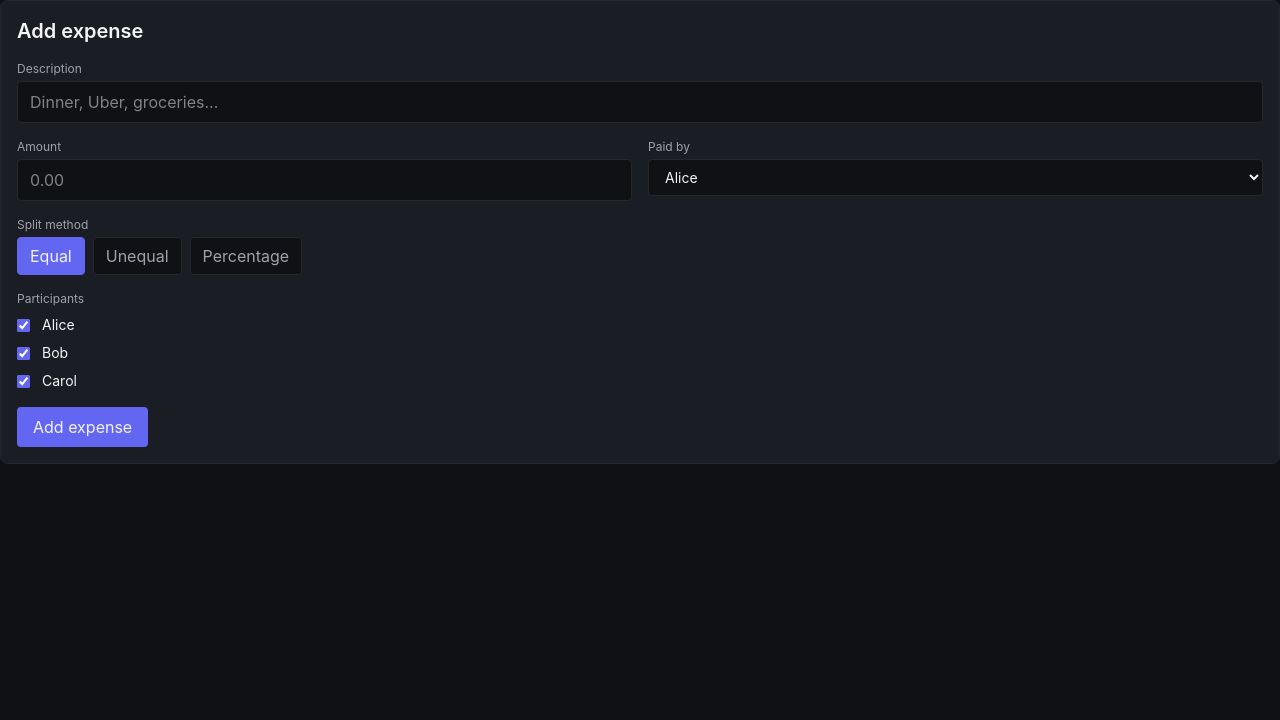
Test: AddExpenseForm › rejects an unequal split whose amounts don't add up to the total
The image size is (1280, 720).
Type "Dinner" into the field labelled "Description" at (640,102), box [17, 81, 1263, 123]
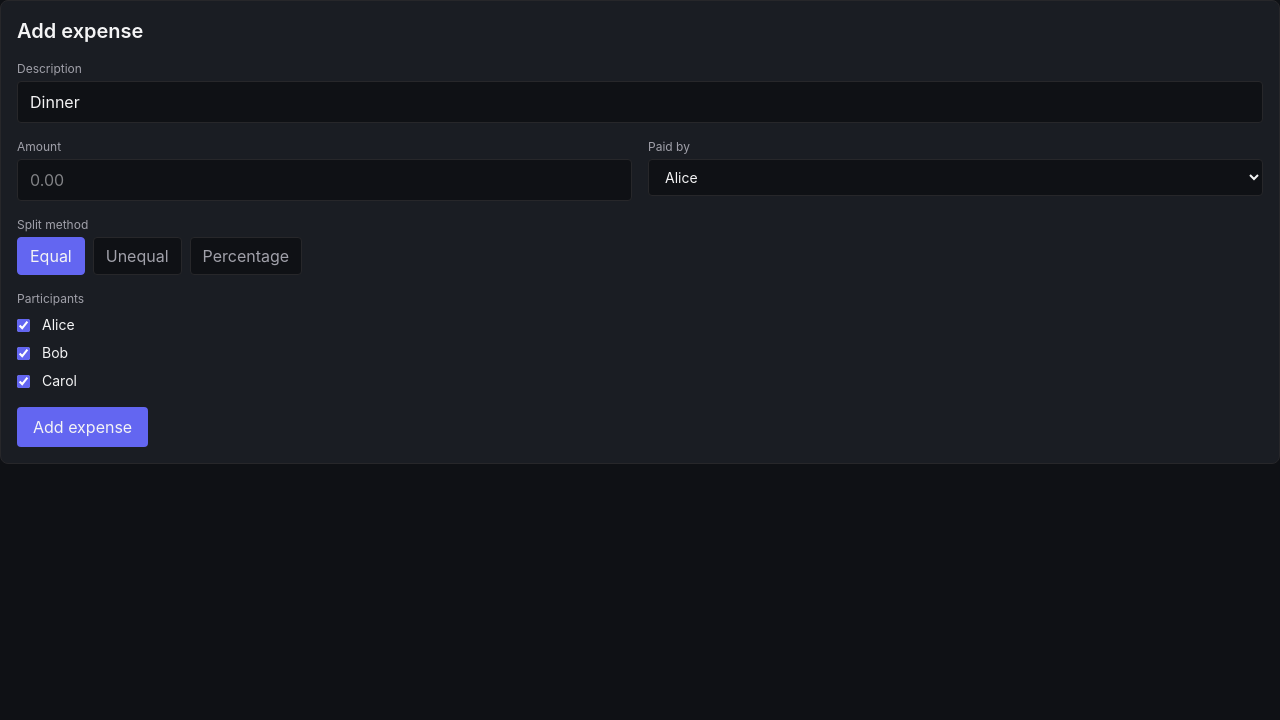
Type "100" into the number field labelled "Amount" at (324,180), box [17, 159, 632, 201]
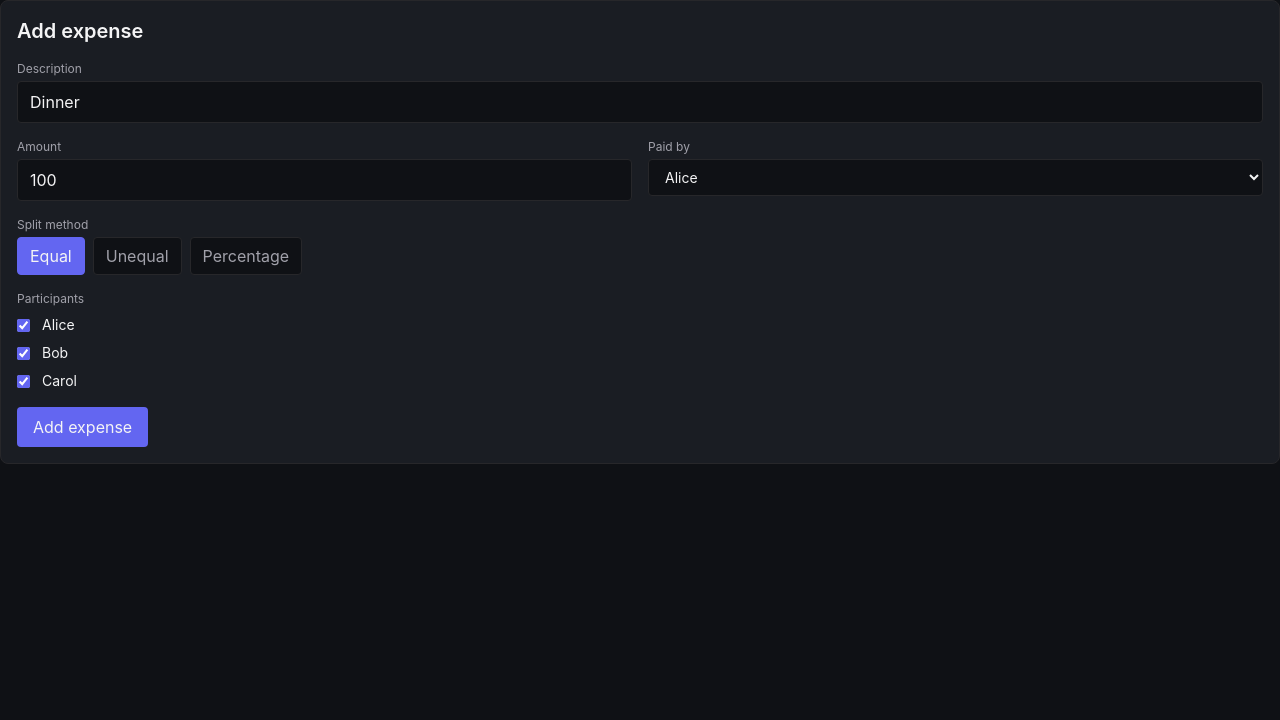
Click the button "Unequal" at (137,256), box [93, 237, 182, 275]
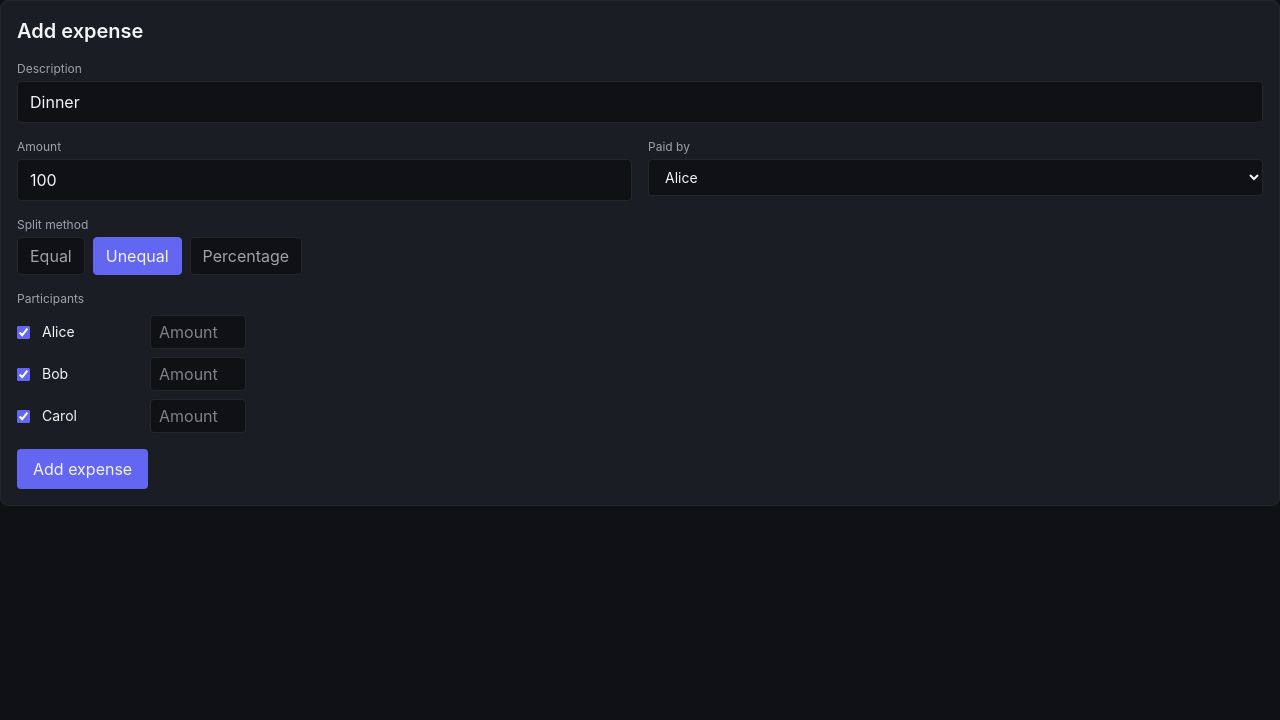
Type "50" into the number field with placeholder "Amount" next to "Alice" at (198,332), box [150, 315, 246, 349]
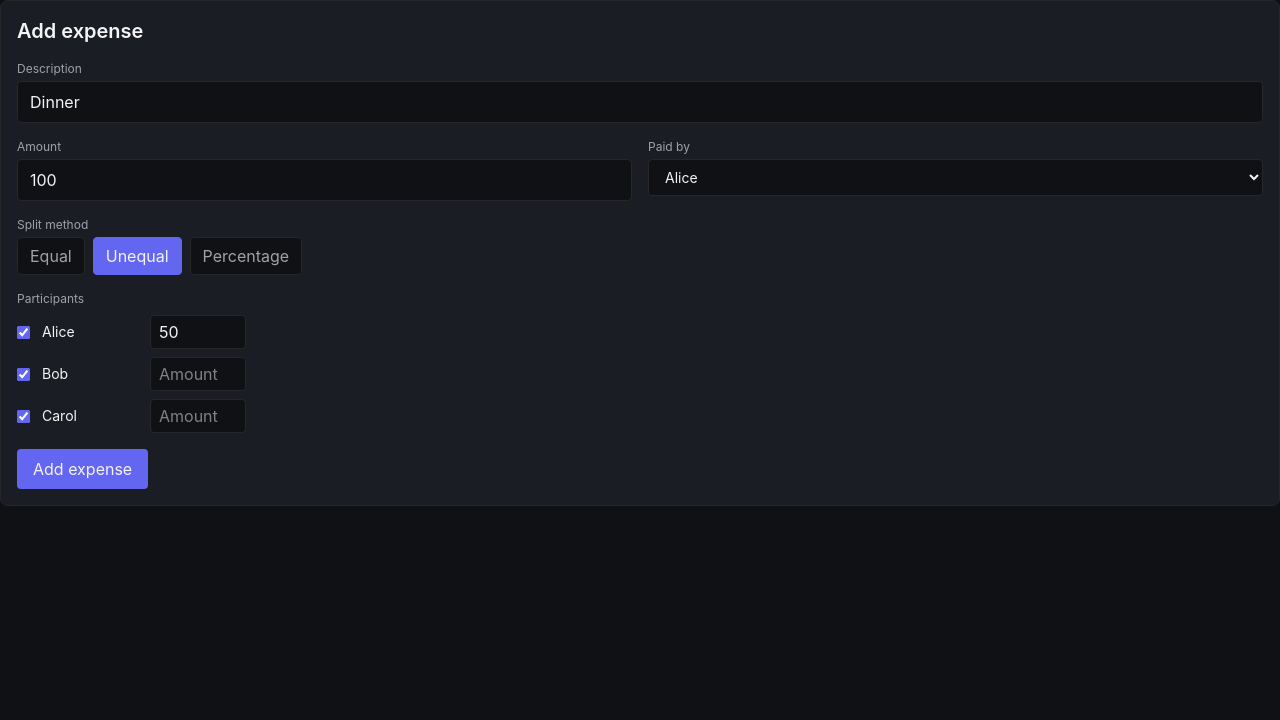
Click the button "Add expense" at (83,469), box [17, 449, 148, 489]
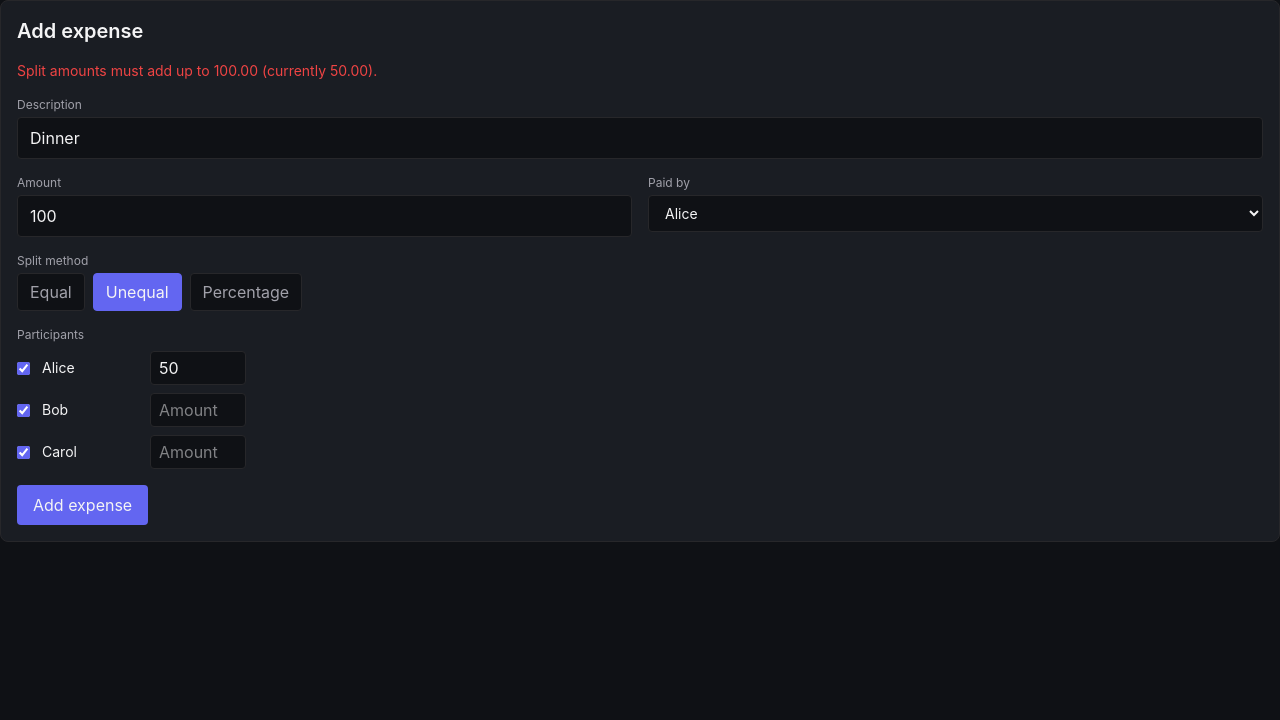
Expected: the text "Split amounts must add up to 100.00 (currently 50.00)." is shown, [17, 62, 377, 79]
